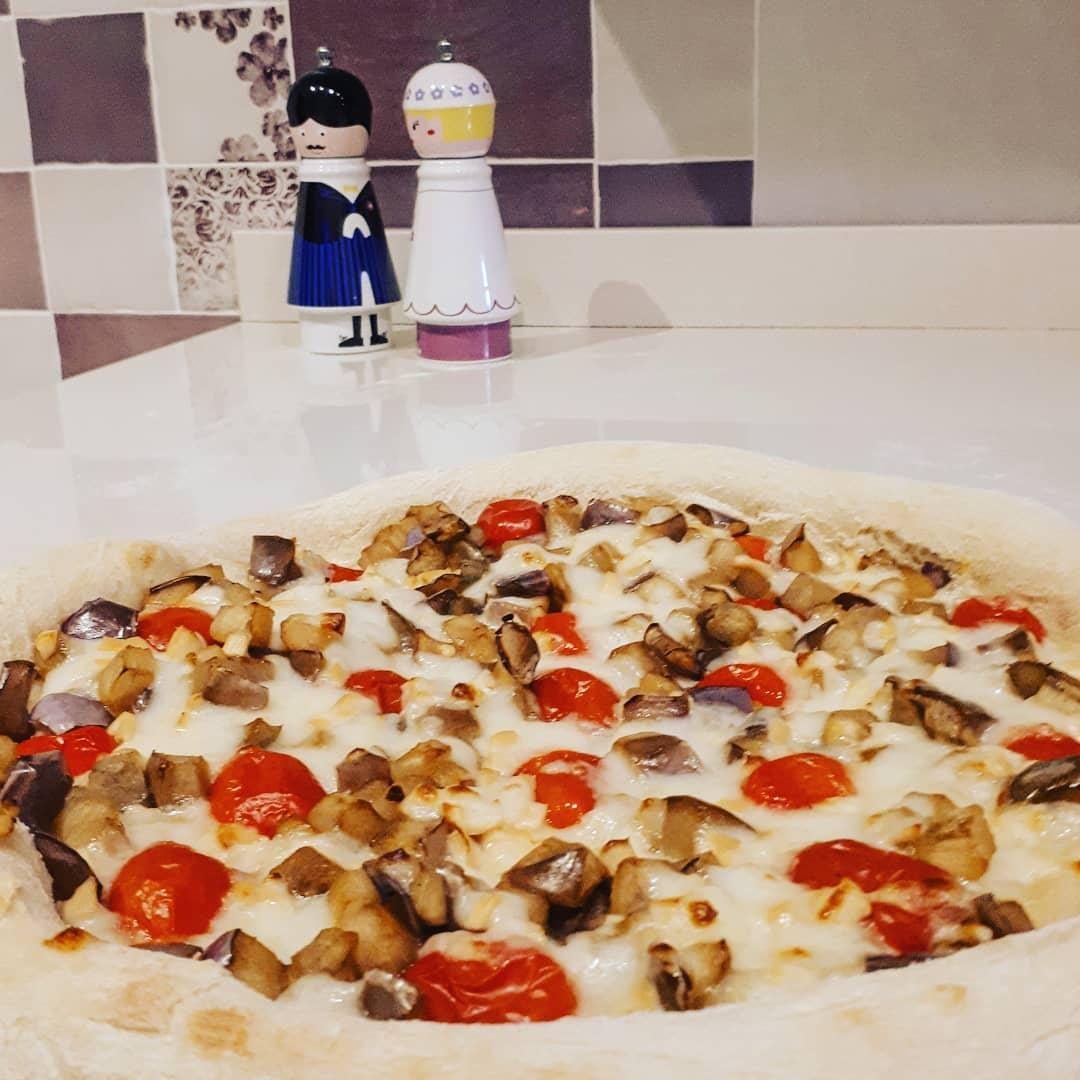Mushroom: (264, 844, 452, 977), (12, 766, 98, 935), (501, 828, 638, 930), (631, 790, 749, 877), (888, 787, 996, 881), (370, 601, 503, 669), (876, 662, 978, 741), (225, 595, 353, 657), (642, 929, 733, 1008), (610, 624, 703, 701), (812, 594, 898, 667), (332, 749, 402, 835), (197, 639, 282, 709), (407, 531, 488, 604), (141, 740, 223, 812), (777, 528, 840, 620), (211, 931, 297, 998), (615, 725, 707, 787), (234, 526, 324, 588), (865, 551, 949, 613), (150, 554, 245, 605), (89, 645, 165, 708), (705, 538, 777, 603), (391, 736, 459, 802), (88, 751, 159, 813), (964, 882, 1037, 941), (401, 491, 481, 543), (359, 520, 443, 568), (617, 569, 686, 621), (683, 491, 754, 540), (266, 641, 342, 685), (1005, 658, 1080, 702), (7, 659, 45, 744), (496, 563, 577, 601), (819, 705, 884, 752), (702, 585, 751, 644), (636, 496, 691, 545), (577, 535, 628, 583), (585, 491, 637, 537), (318, 787, 362, 841)
Pizza: (6, 446, 1080, 1080)
Tomatoes: (385, 933, 587, 1039), (190, 733, 355, 841), (110, 838, 243, 951), (768, 830, 965, 905), (723, 750, 857, 823), (511, 663, 631, 741), (503, 750, 617, 831), (916, 601, 1063, 655), (330, 663, 437, 733), (466, 485, 569, 551), (703, 656, 813, 711), (871, 895, 953, 967), (126, 601, 235, 655), (28, 718, 127, 777), (988, 708, 1080, 771), (513, 598, 603, 657)
